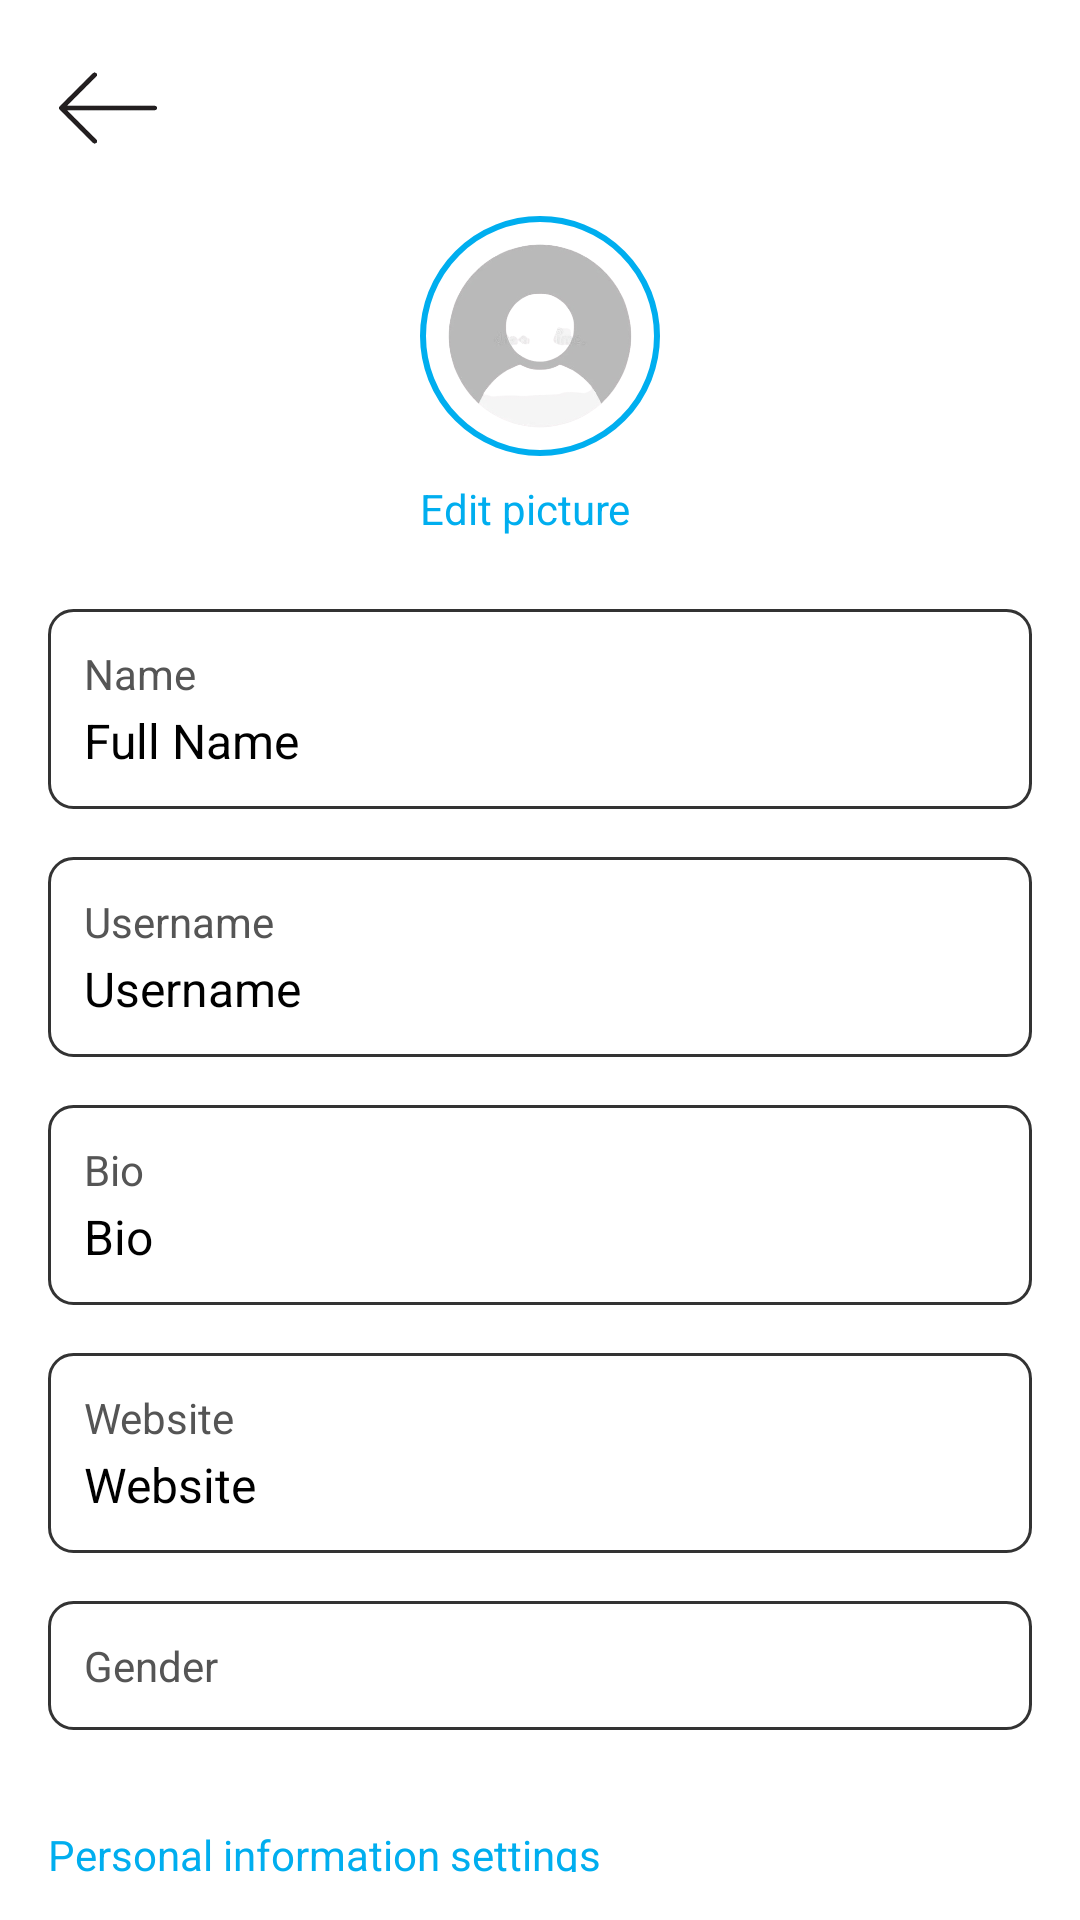

Where icons sit on this 1080 x 1920 app screen, as (x1, y1, x2, y2):
Back: (59, 72, 157, 144)
Profile Picture: (420, 216, 660, 456)
